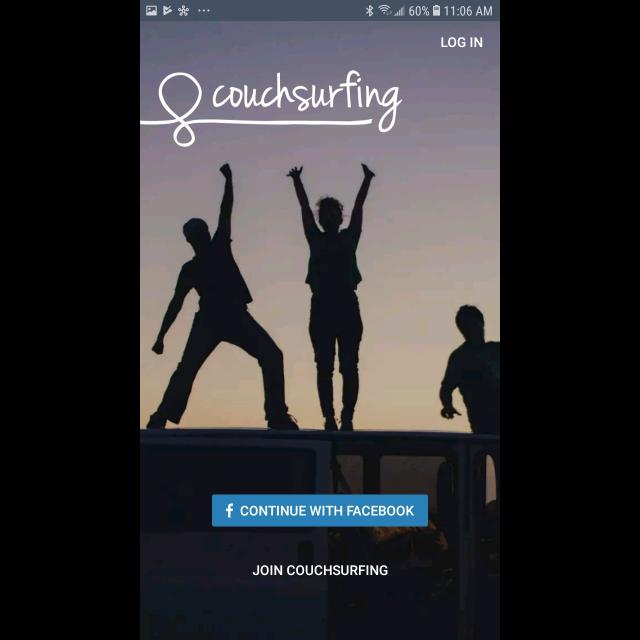backgroundimage: (140, 21, 500, 640)
text: (252, 565, 388, 575), (441, 36, 483, 48)
textbutton: (212, 495, 428, 527)
uppertaskbar: (140, 1, 500, 21)
